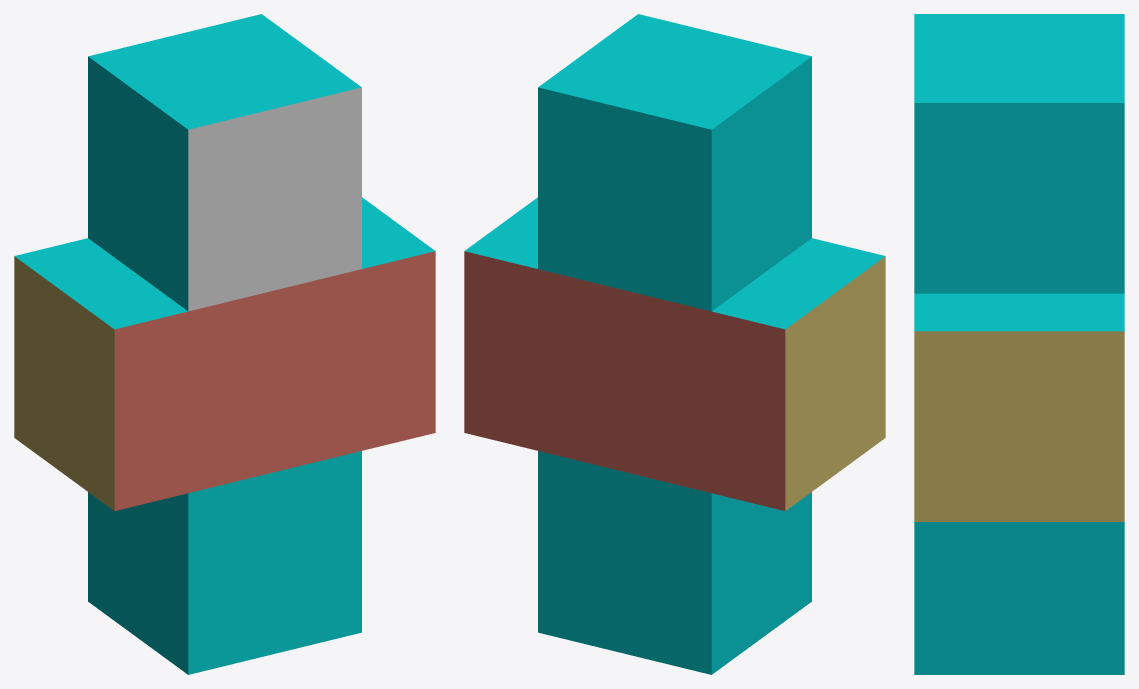
File: orange_character.fbx
3 renders of one model, left to right at view 1: azimuth 30°, elevation 25°; view 2: azimuth 150°, elevation 25°; view 3: azimuth 270°, elevation 25°, orthographic. The views are drawn at different scales.
Visible parts, largest first — view 1: Body, Head, Legs; view 2: Body, Head, Legs; view 3: Head, Body, Legs.
Boxes of the visible parts, x1=… form: Body: x1=14, y1=197, x2=435, y2=511; Head: x1=88, y1=14, x2=361, y2=311; Legs: x1=88, y1=451, x2=361, y2=674; Body: x1=464, y1=197, x2=885, y2=511; Head: x1=538, y1=14, x2=811, y2=311; Legs: x1=538, y1=451, x2=811, y2=674; Head: x1=914, y1=14, x2=1124, y2=293; Body: x1=914, y1=293, x2=1124, y2=521; Legs: x1=914, y1=522, x2=1124, y2=674.
Size of the model in its own units: 370 by 600 by 200.
